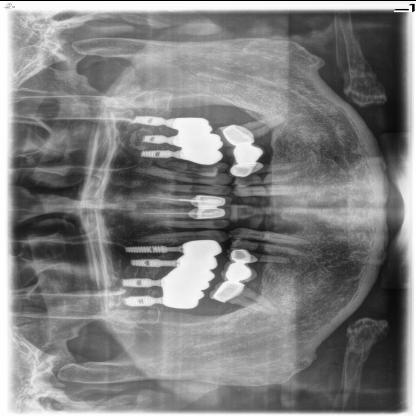Bicon: (122, 242, 166, 254), (130, 113, 164, 126), (119, 276, 153, 288), (123, 294, 152, 306), (140, 147, 170, 158), (129, 257, 162, 266), (138, 134, 166, 144)
